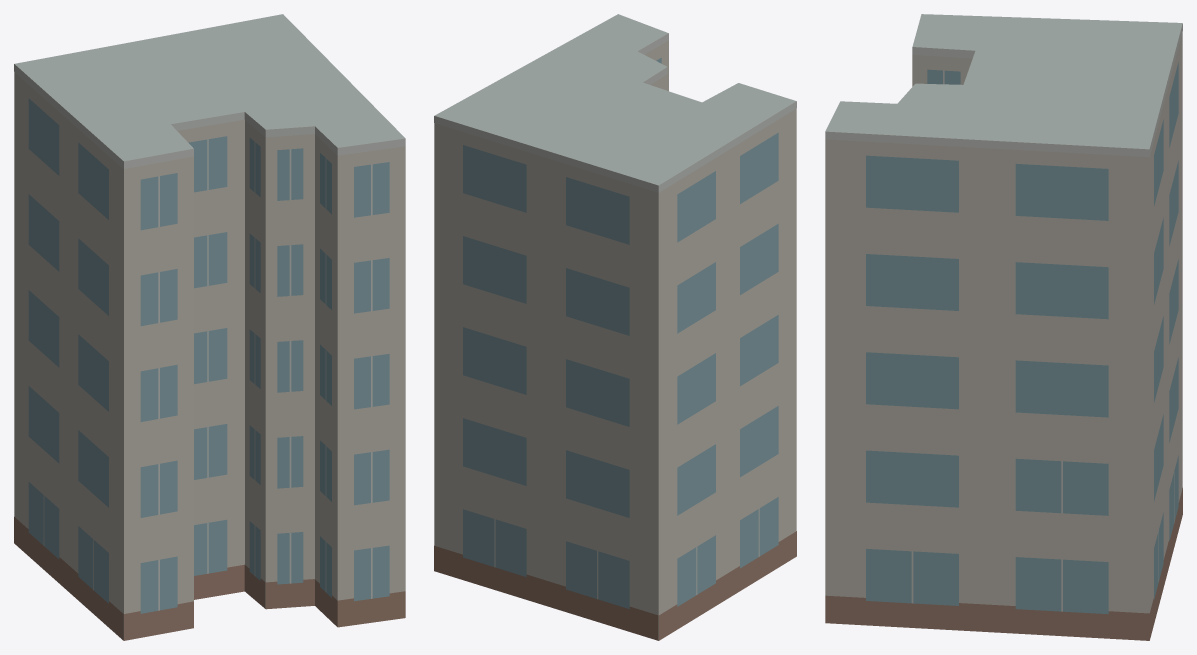
File: survey-upis-32647335.glb
The picture shows the model from 3 angles, left to right: view 1: azimuth 30°, elevation 25°; view 2: azimuth 150°, elevation 25°; view 3: azimuth 270°, elevation 25°; orthographic projection. The views are drawn at different scales.
Parts seen in each view (by area): view 1: survey-upis-32647335.tmp; view 2: survey-upis-32647335.tmp; view 3: survey-upis-32647335.tmp.
Boxes of the visible parts, x1,y1,x2,y2 form: survey-upis-32647335.tmp: (14, 14, 405, 640); survey-upis-32647335.tmp: (434, 14, 796, 640); survey-upis-32647335.tmp: (825, 14, 1182, 640).
Bounding box in the file's own units: 9.01 × 15.25 × 10.07.
